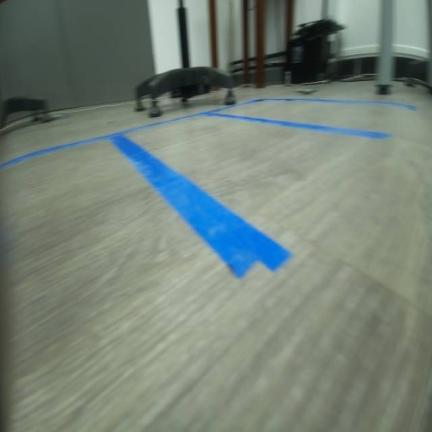place: (0, 129, 292, 431), (104, 108, 392, 284), (203, 95, 420, 139)
